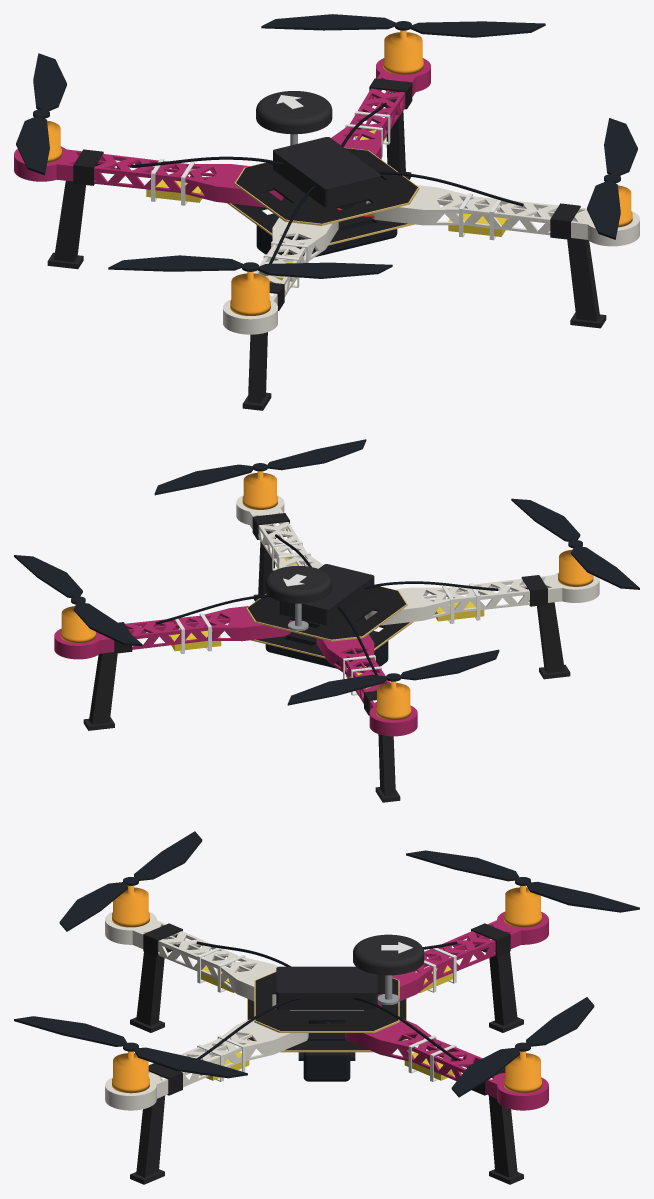
The model's file is f450-l2-r4-preview-assembly.glb.
The picture shows the model from 3 angles, top to bottom: view 1: azimuth 30°, elevation 25°; view 2: azimuth 150°, elevation 25°; view 3: azimuth 270°, elevation 25°; orthographic projection. The views are drawn at different scales.
Parts seen in each view (by area): view 1: LatticeArm RR R4 白色格柵機臂, LatticeArm FR R4 紅色格柵機臂, Pixhawk FlightController R4 飛控, Top centre plate R4 上中心板, Two-blade propeller FL \u2014 photo silhouette, rotation unk, LatticeArm RL R4 白色格柵機臂, Two-blade propeller RL \u2014 photo silhouette, rotation unk, LatticeArm FL R4 紅色格柵機臂, Two-blade propeller FR \u2014 photo silhouette, rotation unk, Two-blade propeller RR \u2014 photo silhouette, rotation unk, GPS compass puck R4 圓餅, Landing leg RR R4 黑色腳架 (+13 smaller); view 2: LatticeArm FL R4 紅色格柵機臂, LatticeArm RL R4 白色格柵機臂, Top centre plate R4 上中心板, LatticeArm FR R4 紅色格柵機臂, Two-blade propeller RR \u2014 photo silhouette, rotation unk, Two-blade propeller FR \u2014 photo silhouette, rotation unk, Pixhawk FlightController R4 飛控, Two-blade propeller FL \u2014 photo silhouette, rotation unk, Two-blade propeller RL \u2014 photo silhouette, rotation unk, LatticeArm RR R4 白色格柵機臂, GPS compass puck R4 圓餅, Landing leg FL R4 黑色腳架 (+11 smaller); view 3: LatticeArm FL R4 紅色格柵機臂, LatticeArm RL R4 白色格柵機臂, Pixhawk FlightController R4 飛控, LatticeArm RR R4 白色格柵機臂, LatticeArm FR R4 紅色格柵機臂, Top centre plate R4 上中心板, Two-blade propeller RR \u2014 photo silhouette, rotation unk, Two-blade propeller FR \u2014 photo silhouette, rotation unk, Two-blade propeller FL \u2014 photo silhouette, rotation unk, Two-blade propeller RL \u2014 photo silhouette, rotation unk, GPS compass puck R4 圓餅, Landing leg FL R4 黑色腳架 (+13 smaller).
Part boxes in pixels (x1,y1,x2,y2): LatticeArm RR R4 白色格柵機臂: (366,185,639,246); LatticeArm FR R4 紅色格柵機臂: (14,146,283,207); Pixhawk FlightController R4 飛控: (273,137,380,207); Top centre plate R4 上中心板: (236,148,417,223); Two-blade propeller FL \u2014 photo silhouette, rotation unk: (261,14,545,37); LatticeArm RL R4 白色格柵機臂: (223,217,338,334); Two-blade propeller RL \u2014 photo silhouette, rotation unk: (108,255,392,278); LatticeArm FL R4 紅色格柵機臂: (331,58,430,159); Two-blade propeller FR \u2014 photo silhouette, rotation unk: (16,53,66,174); Two-blade propeller RR \u2014 photo silhouette, rotation unk: (587,118,637,239); GPS compass puck R4 圓餅: (256,91,332,134); Landing leg RR R4 黑色腳架: (567,238,606,328); LatticeArm FL R4 紅色格柵機臂: (54,606,292,659); LatticeArm RL R4 白色格柵機臂: (364,572,599,625); Top centre plate R4 上中心板: (248,586,405,639); LatticeArm FR R4 紅色格柵機臂: (316,634,417,736); Two-blade propeller RR \u2014 photo silhouette, rotation unk: (154,439,366,495); Two-blade propeller FR \u2014 photo silhouette, rotation unk: (287,649,499,705); Pixhawk FlightController R4 飛控: (279,564,374,625); Two-blade propeller FL \u2014 photo silhouette, rotation unk: (14,555,142,646); Two-blade propeller RL \u2014 photo silhouette, rotation unk: (511,498,639,589); LatticeArm RR R4 白色格柵機臂: (236,495,322,568); GPS compass puck R4 圓餅: (265,566,331,603); Landing leg FL R4 黑色腳架: (83,652,117,730); LatticeArm FL R4 紅色格柵機臂: (345,1019,548,1110); LatticeArm RL R4 白色格柵機臂: (105,911,278,1008); Pixhawk FlightController R4 飛控: (276,966,377,1009); LatticeArm RR R4 白色格柵機臂: (105,1019,308,1110); LatticeArm FR R4 紅色格柵機臂: (377,911,548,1008); Top centre plate R4 上中心板: (255,972,398,1030); Two-blade propeller RR \u2014 photo silhouette, rotation unk: (14,1016,247,1078); Two-blade propeller FR \u2014 photo silhouette, rotation unk: (406,850,639,912); Two-blade propeller FL \u2014 photo silhouette, rotation unk: (451,997,594,1097); Two-blade propeller RL \u2014 photo silhouette, rotation unk: (59,831,202,931); GPS compass puck R4 圓餅: (353,934,424,975); Landing leg FL R4 黑色腳架: (488,1095,523,1184).
Size of the model in its own units: 508 by 138 by 508.
